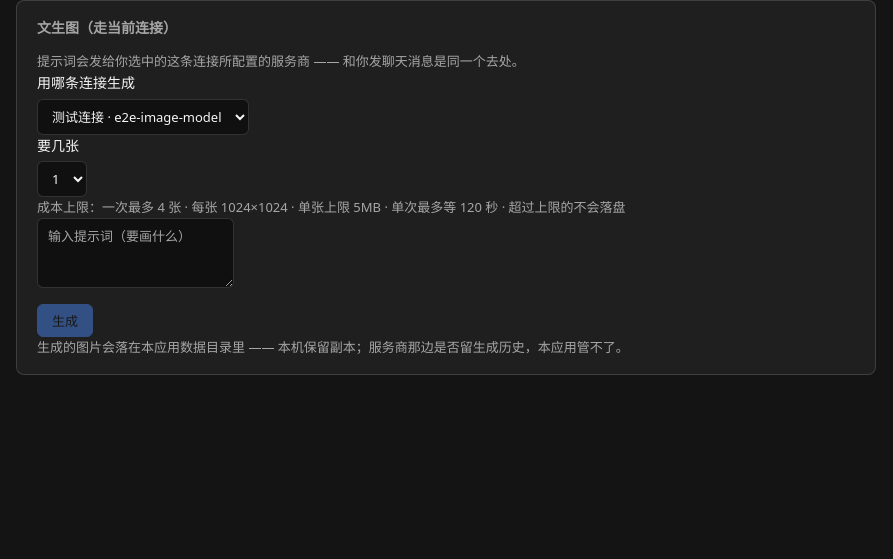
Scenario: 文生图面板：界面必须说清的三句话（R51 S1） › ② 能力差异：这个连接不支持生成 —— 说得出这句话，不静默失败
Type "一只猫" into the text box labelled "提示词".
click(136, 253); type("一只猫")  # box [37,218,234,288]
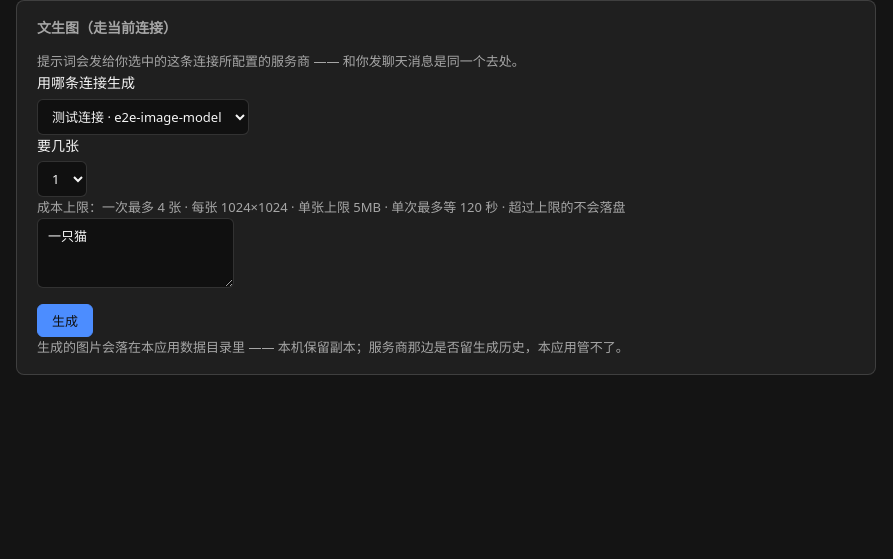
Click the button "生成".
click(65, 321)  # box [37,304,93,337]
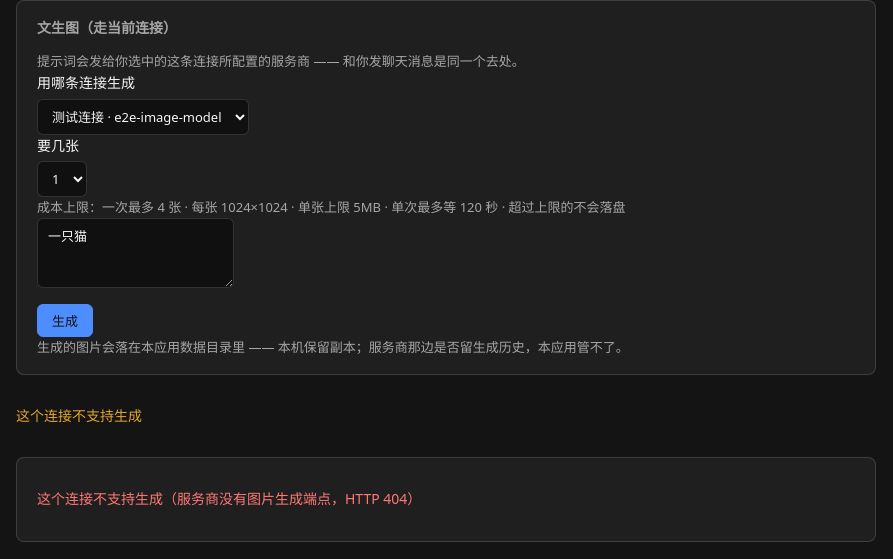
Check: the text "这个连接不支持生成" is shown, box [16,406,142,425]
Check: the text "HTTP 404" is shown, box [37,489,421,508]
